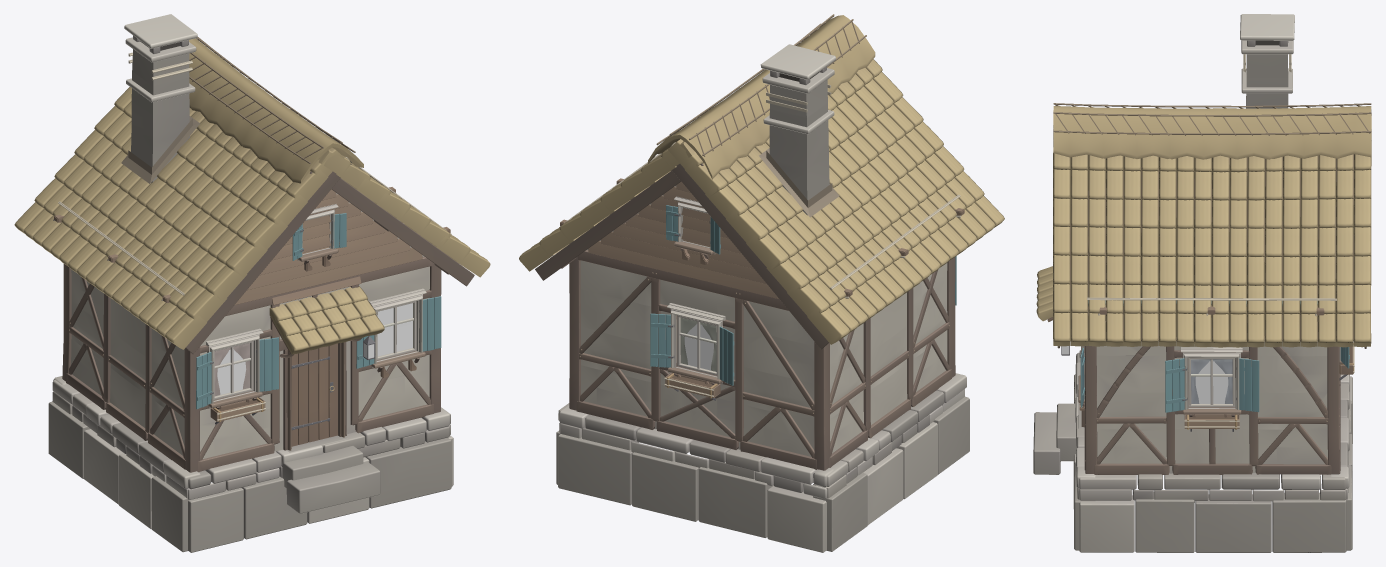
File: bd_house_h6.glb
3 views of the same model, side by side, from view 1: azimuth 30°, elevation 25°; view 2: azimuth 150°, elevation 25°; view 3: azimuth 270°, elevation 25° (orthographic). The views are drawn at different scales.
Visible parts, largest first — view 1: BD_house_h6__body; view 2: BD_house_h6__body; view 3: BD_house_h6__body.
Boxes of the visible parts, bbox=[...] form: BD_house_h6__body: bbox=[14, 14, 490, 552]; BD_house_h6__body: bbox=[519, 14, 1004, 552]; BD_house_h6__body: bbox=[1033, 14, 1371, 552].
Bounding box in the file's own units: 6.74 × 8.8 × 6.23.
